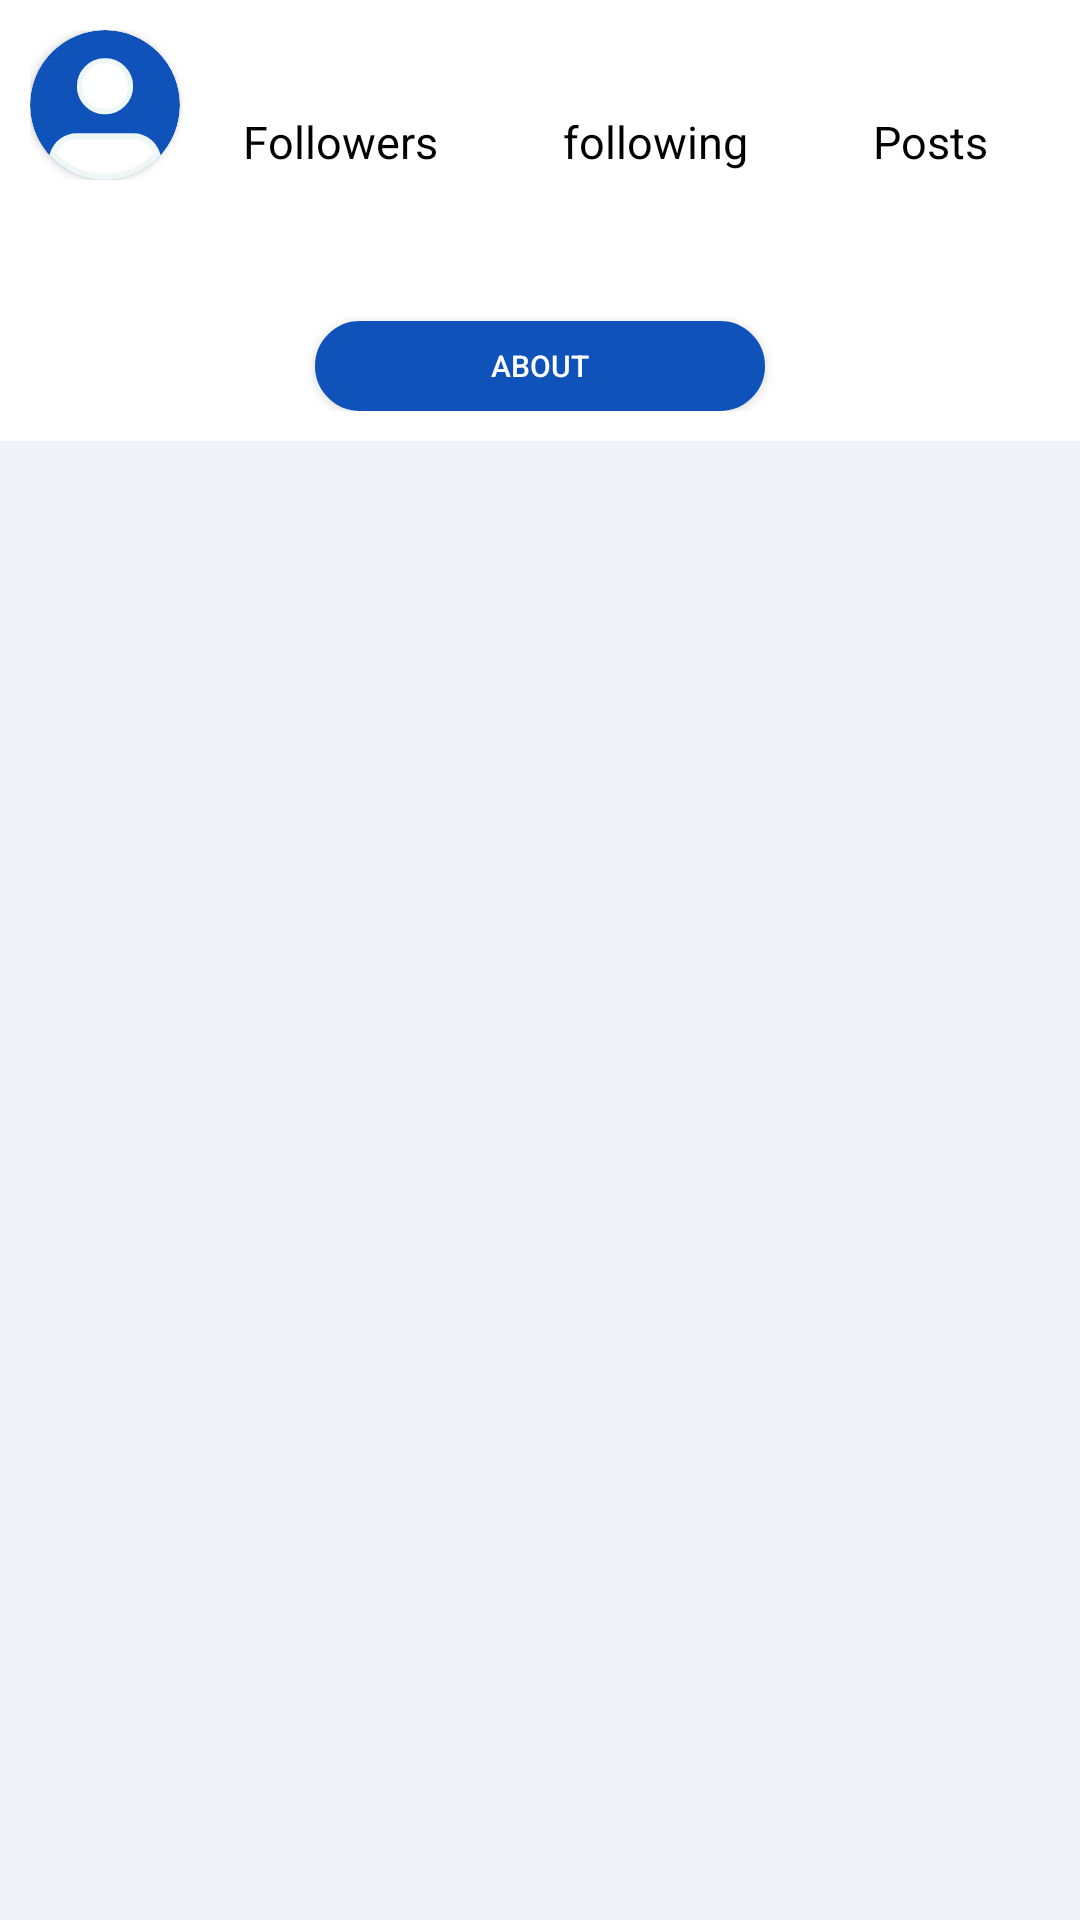

Icon bounding boxes for this 1080*1920 phone screenshot, format (x1, y1, x2, y2):
profile: (30, 30, 180, 180)
